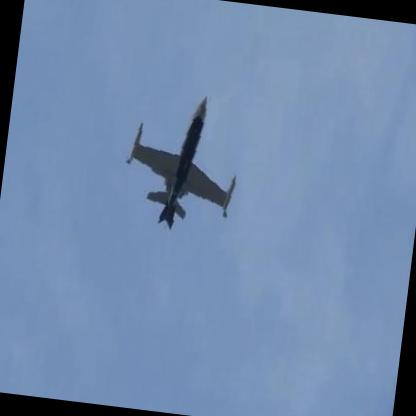plane: (112, 86, 250, 240)
